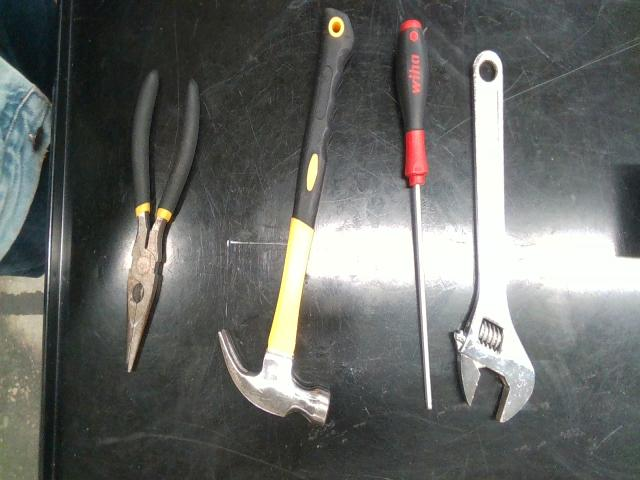Adjustable spanner: (454, 50, 535, 422)
Hammer: (219, 8, 354, 424)
Needle-nose pliers: (126, 70, 200, 371)
Screwdriver: (396, 20, 432, 409)
